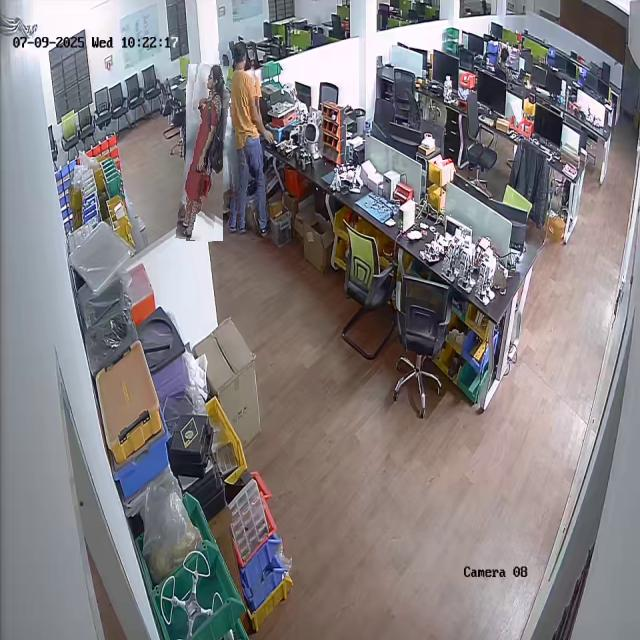person: (223, 40, 267, 239), (181, 63, 228, 242)
